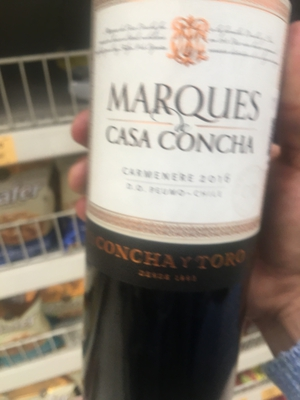marques de casa concha carmenere: (78, 2, 292, 379)
